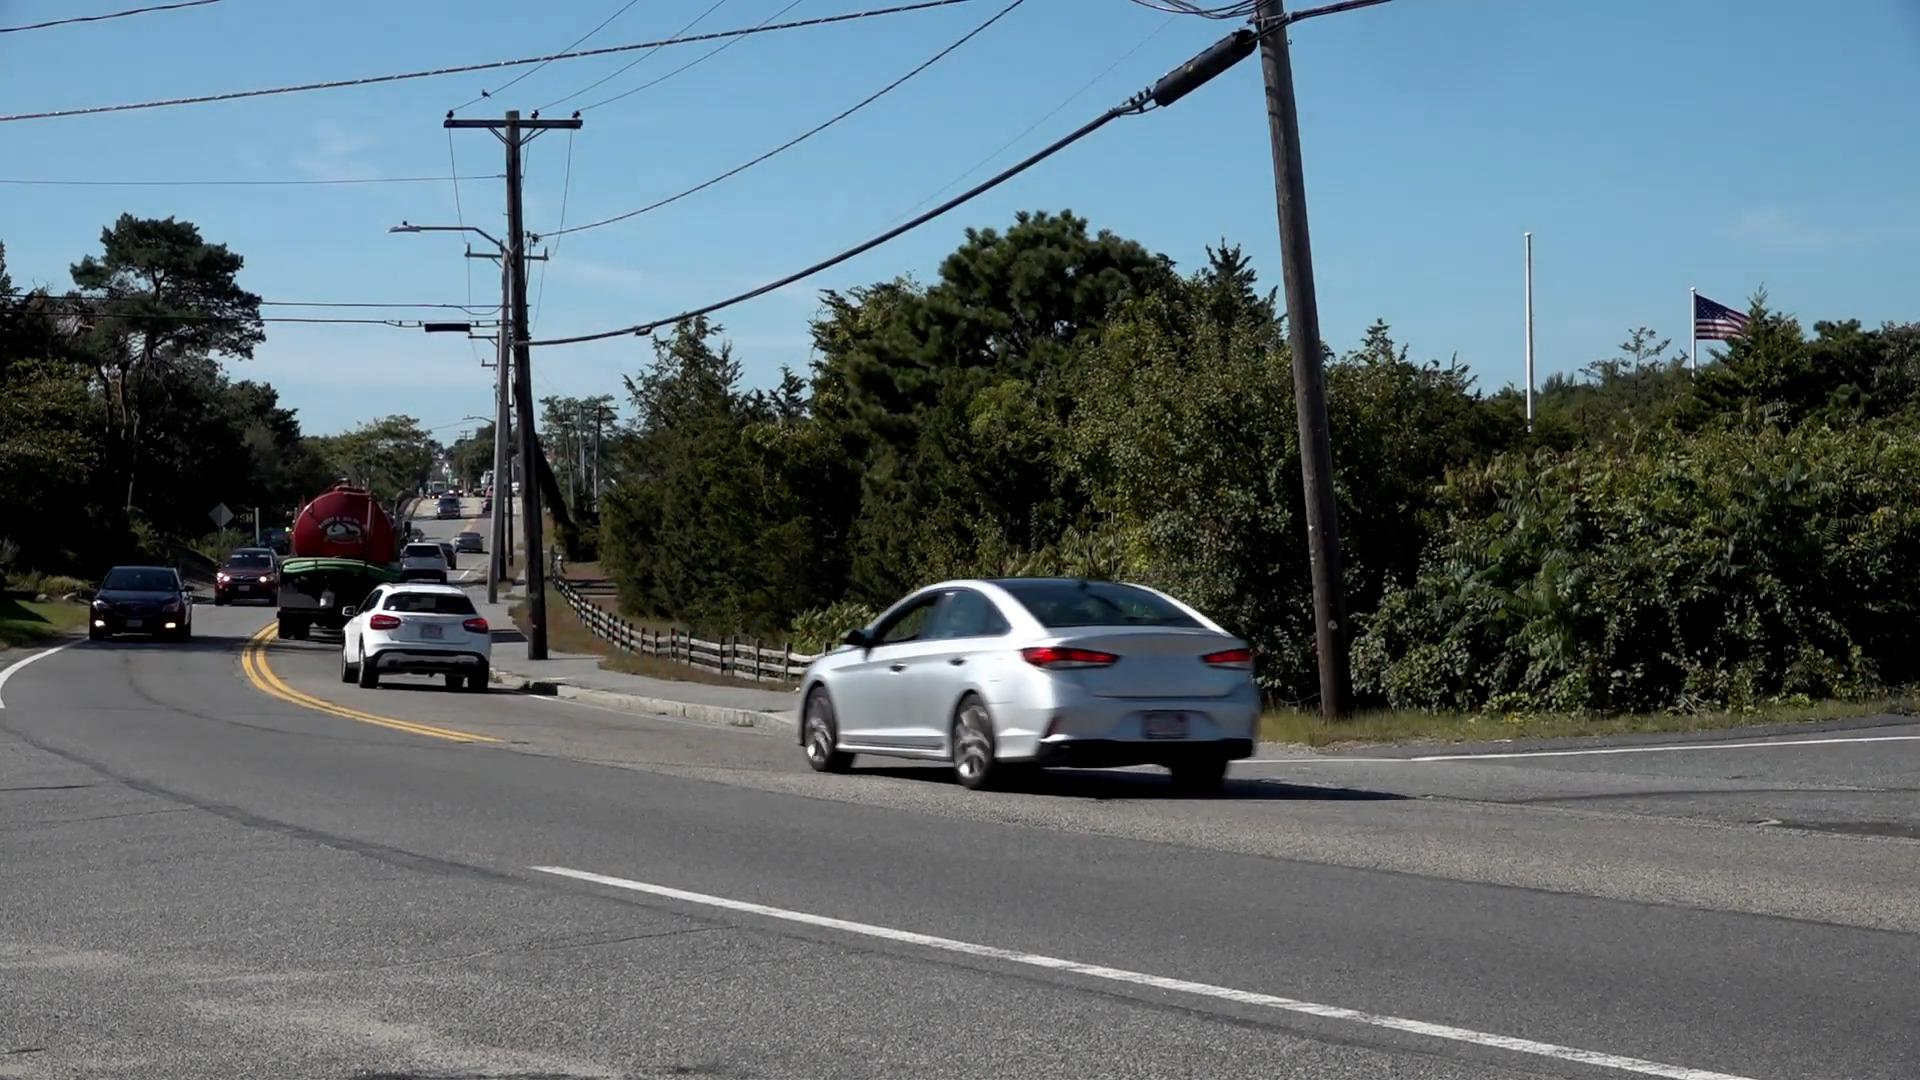sedans: (803, 576, 1263, 790), (219, 549, 274, 600)
suv: (344, 586, 493, 690), (86, 566, 193, 644)
truck: (280, 493, 349, 644)
